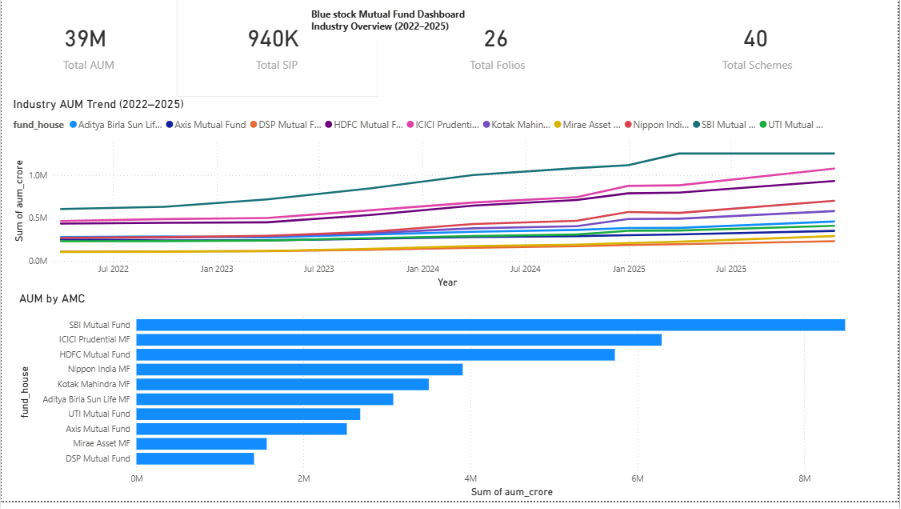

What the dashboard file says about the page in this screenshot:
{"tool":"powerbi","page":{"name":"Page 1","canvas":[1280,720],"ordinal":0},"visuals":[{"type":"advanceCardE03760C5AB684758B56AA29F9E6C257B","fields":{"mainMeasure":["03_aum_by_fund_house.Total AUM"]},"box":[0,0,250,143.3],"z":1},{"type":"advanceCardE03760C5AB684758B56AA29F9E6C257B","fields":{"mainMeasure":["04_monthly_sip_inflows.Total SIP"]},"box":[250,0,286.7,143.3],"z":2},{"type":"advanceCardE03760C5AB684758B56AA29F9E6C257B","fields":{"mainMeasure":["06_industry_folio_count.Total Folios"]},"box":[536.7,0,343.3,143.3],"z":3},{"type":"advanceCardE03760C5AB684758B56AA29F9E6C257B","fields":{"mainMeasure":["01_fund_master.Total Schemes"]},"box":[880,0,400,143.3],"z":4},{"type":"lineChart","title":"Industry AUM Trend (2022–2025)","fields":{"Y":["Sum(03_aum_by_fund_house.aum_crore)"],"Series":["03_aum_by_fund_house.fund_house"],"Category":["03_aum_by_fund_house.date.Variation.Date Hierarchy.Year","03_aum_by_fund_house.date.Variation.Date Hierarchy.Quarter","03_aum_by_fund_house.date.Variation.Date Hierarchy.Month","03_aum_by_fund_house.date.Variation.Date Hierarchy.Day"]},"box":[11.7,143.3,1205,278.3],"z":5},{"type":"barChart","title":"AUM by AMC","fields":{"Category":["03_aum_by_fund_house.fund_house"],"Y":["Sum(03_aum_by_fund_house.aum_crore)"]},"box":[20,420,1260,300],"z":6},{"type":"textbox","box":[437.1,10,232.9,51.4],"z":7}]}

Visuals, with their boxes in screenshot pixels (x1, y1, x2, y2), scaled from the page's 1280x720 canvas onto the 901x509 screenshot:
advanceCardE03760C5AB684758B56AA29F9E6C257B - 03_aum_by_fund_house.Total AUM: BBox(0, 0, 176, 101)
advanceCardE03760C5AB684758B56AA29F9E6C257B - 04_monthly_sip_inflows.Total SIP: BBox(176, 0, 378, 101)
advanceCardE03760C5AB684758B56AA29F9E6C257B - 06_industry_folio_count.Total Folios: BBox(378, 0, 619, 101)
advanceCardE03760C5AB684758B56AA29F9E6C257B - 01_fund_master.Total Schemes: BBox(619, 0, 900, 101)
"Industry AUM Trend (2022–2025)" lineChart: BBox(8, 101, 856, 298)
"AUM by AMC" barChart: BBox(14, 297, 900, 508)
textbox: BBox(308, 7, 472, 43)
